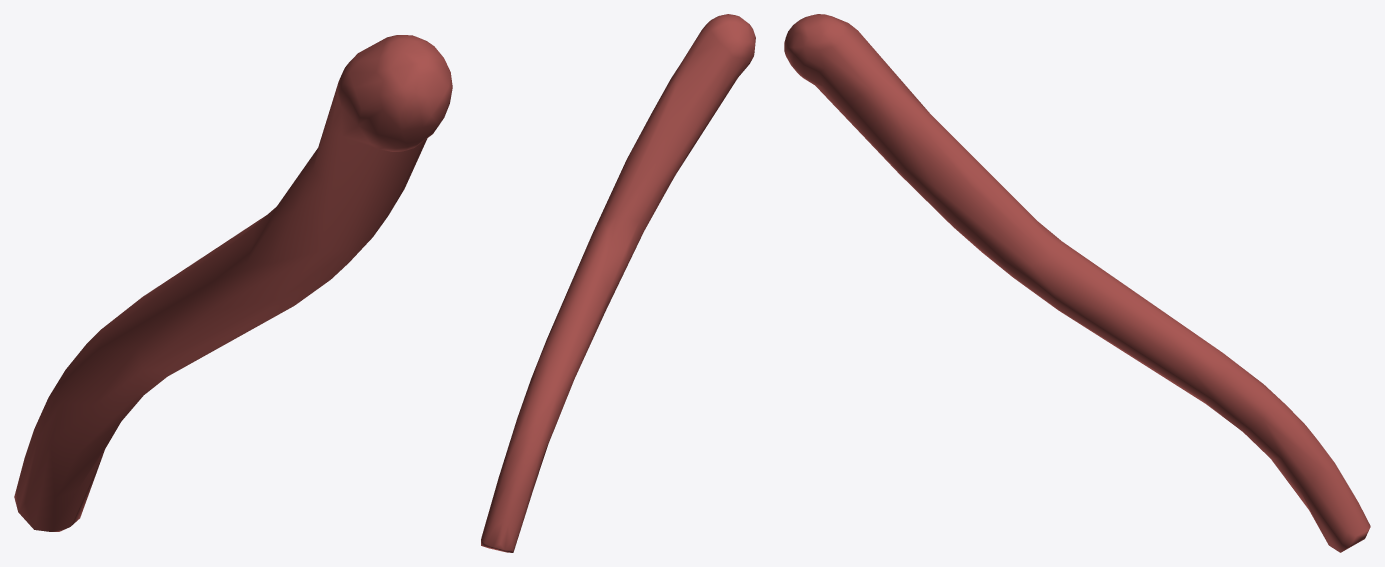
Rendered from FMA18888.glb.
3 views of the same model, side by side, from view 1: azimuth 30°, elevation 25°; view 2: azimuth 150°, elevation 25°; view 3: azimuth 270°, elevation 25° (orthographic). The views are drawn at different scales.
Visible parts, largest first — view 1: FMA18888; view 2: FMA18888; view 3: FMA18888.
Part boxes in pixels (x1,y1,x2,y2): FMA18888: (14, 35, 452, 531); FMA18888: (481, 14, 755, 552); FMA18888: (784, 14, 1370, 552).
Bounding box in the file's own units: 0.0117 × 0.0587 × 0.0607.
